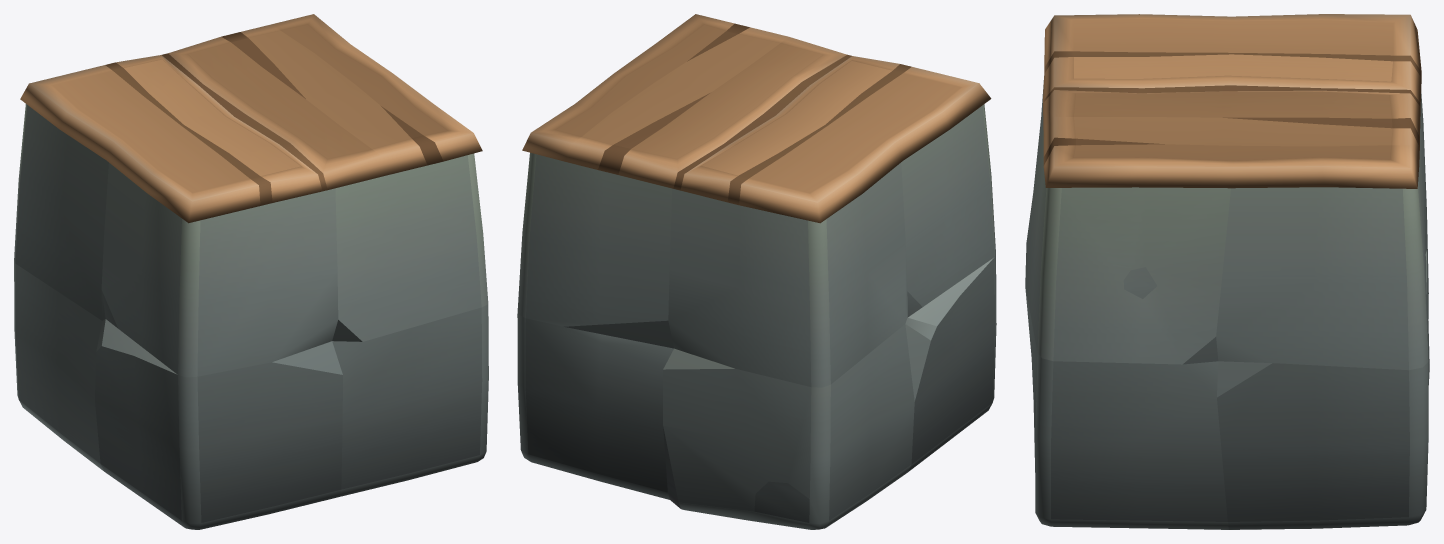
The model's file is tavern_floor_block.fbx.
3 renders of one model, left to right at view 1: azimuth 30°, elevation 25°; view 2: azimuth 150°, elevation 25°; view 3: azimuth 270°, elevation 25°, orthographic. The views are drawn at different scales.
Visible parts, largest first — view 1: tavern_floor_block_LOD0; view 2: tavern_floor_block_LOD0; view 3: tavern_floor_block_LOD0.
Boxes of the visible parts, bbox=[...] form: tavern_floor_block_LOD0: bbox=[14, 14, 488, 529]; tavern_floor_block_LOD0: bbox=[517, 14, 996, 529]; tavern_floor_block_LOD0: bbox=[1025, 14, 1429, 529].
Size of what is drawn, in the model's own units: 110 by 112 by 109.
